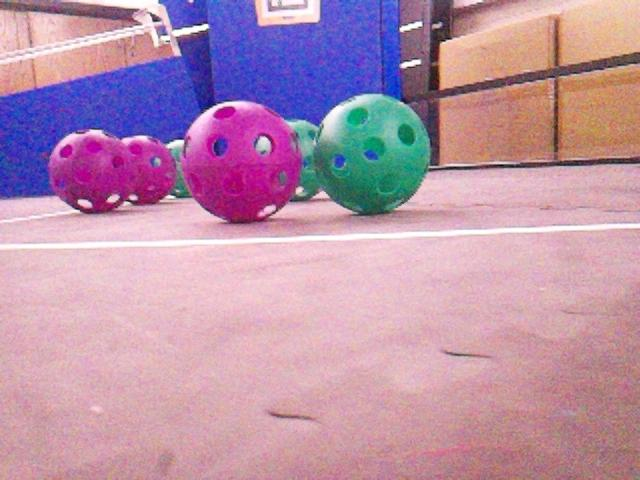Green: (312, 94, 431, 212), (284, 118, 322, 198), (166, 140, 190, 197), (301, 156, 309, 168)
Purple: (180, 100, 301, 221), (47, 129, 133, 211), (119, 135, 176, 204)
